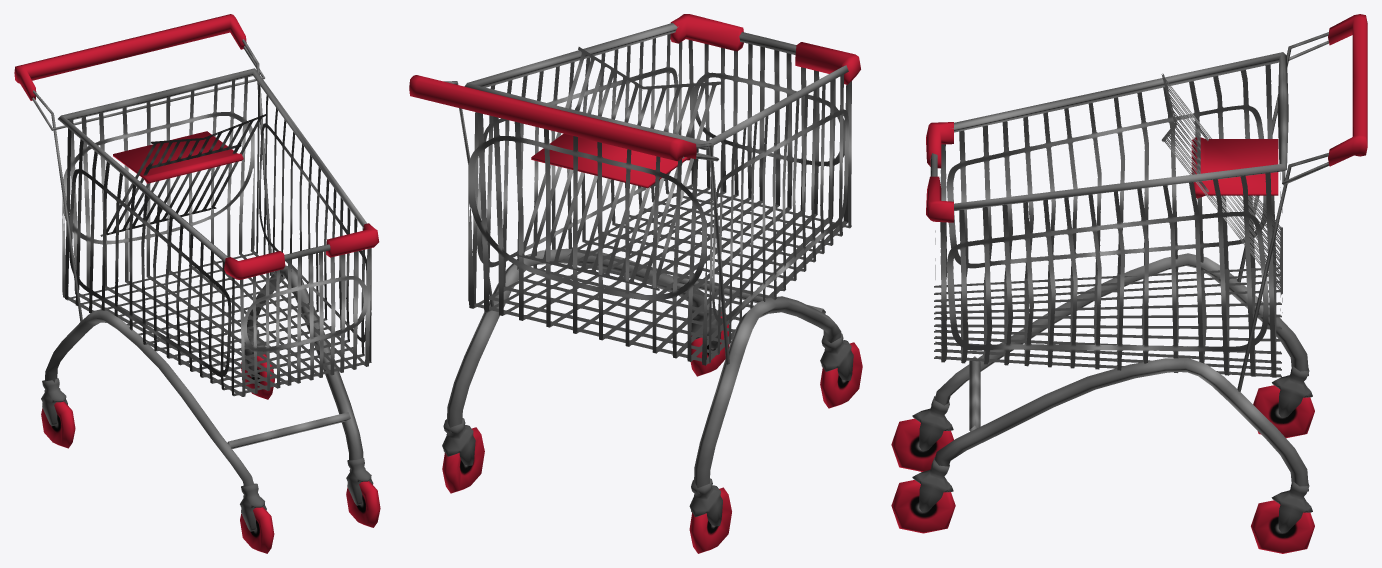
The model's file is Shopping_Cart_.fbx.
3 views of the same model, side by side, from view 1: azimuth 30°, elevation 25°; view 2: azimuth 150°, elevation 25°; view 3: azimuth 270°, elevation 25° (orthographic). The views are drawn at different scales.
Visible parts, largest first — view 1: Shopping_Cart_; view 2: Shopping_Cart_; view 3: Shopping_Cart_.
Part boxes in pixels (<box>): Shopping_Cart_: <box>14,14,380,553</box>; Shopping_Cart_: <box>409,14,862,553</box>; Shopping_Cart_: <box>891,14,1367,553</box>.
Size of the model in its own units: 74.88 by 119 by 121.
1 material, 1 textured.
